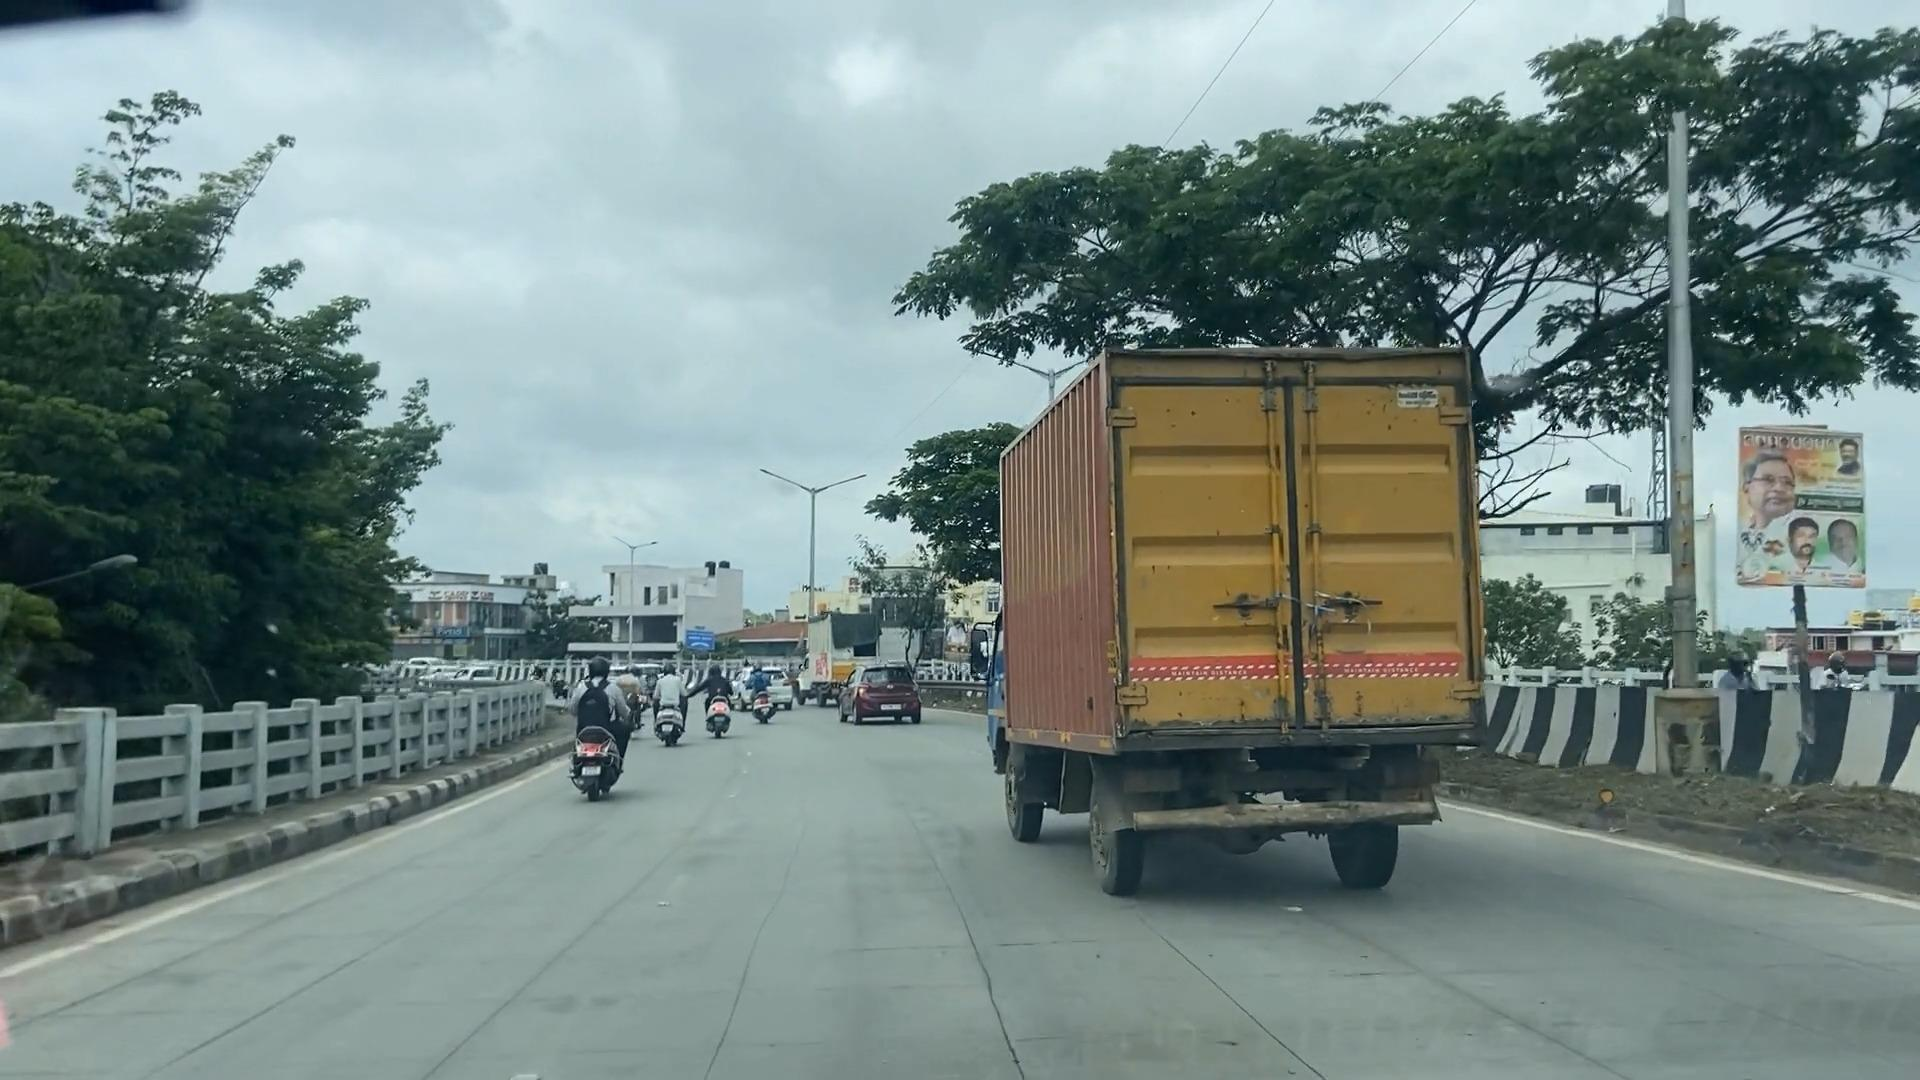HMV: (1065, 357, 1485, 886)
LMV: (564, 655, 628, 795), (853, 662, 910, 736), (651, 659, 694, 753), (696, 662, 738, 741), (749, 665, 774, 729)
